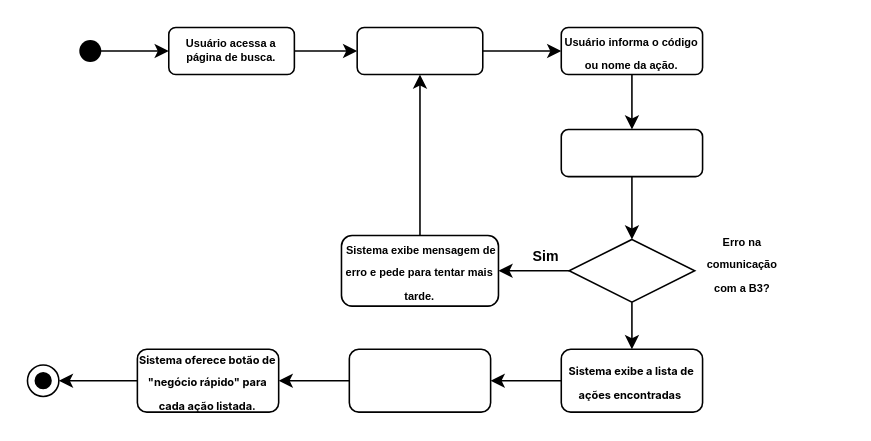
This 871x441 diagram has some shape labels left out. The shapes that lost their labels are listed below. From the top down, each one's centre as x and y in pixels, then its label:
At (419,50): "Tela de Busca".
At (631,152): "Sistema busca as ações correspondentes na B3".
At (419,380): "Sistema destaca as ações com maiores altas e maiores baixas.".
